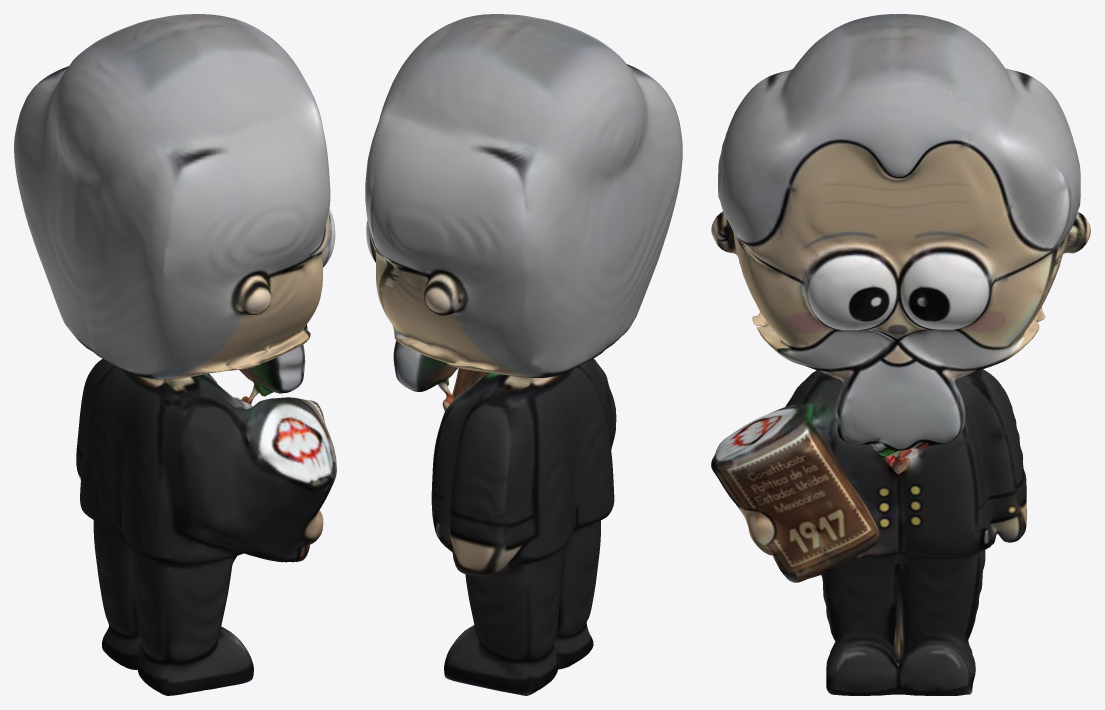
The model's file is venustiano.glb.
3 renders of one model, left to right at view 1: azimuth 30°, elevation 25°; view 2: azimuth 150°, elevation 25°; view 3: azimuth 270°, elevation 25°, orthographic. The views are drawn at different scales.
Visible parts, largest first — view 1: tripo_node_bc78b3cc-826f-4d90-a330-5b2595f30ffb; view 2: tripo_node_bc78b3cc-826f-4d90-a330-5b2595f30ffb; view 3: tripo_node_bc78b3cc-826f-4d90-a330-5b2595f30ffb.
Part boxes in pixels (x1=…): tripo_node_bc78b3cc-826f-4d90-a330-5b2595f30ffb: x1=14, y1=14, x2=336, y2=695; tripo_node_bc78b3cc-826f-4d90-a330-5b2595f30ffb: x1=365, y1=14, x2=682, y2=695; tripo_node_bc78b3cc-826f-4d90-a330-5b2595f30ffb: x1=711, y1=14, x2=1090, y2=695.
Bounding box in the file's own units: 0.343 × 0.91 × 0.4837.
Materials: 1 (1 with a texture image).
